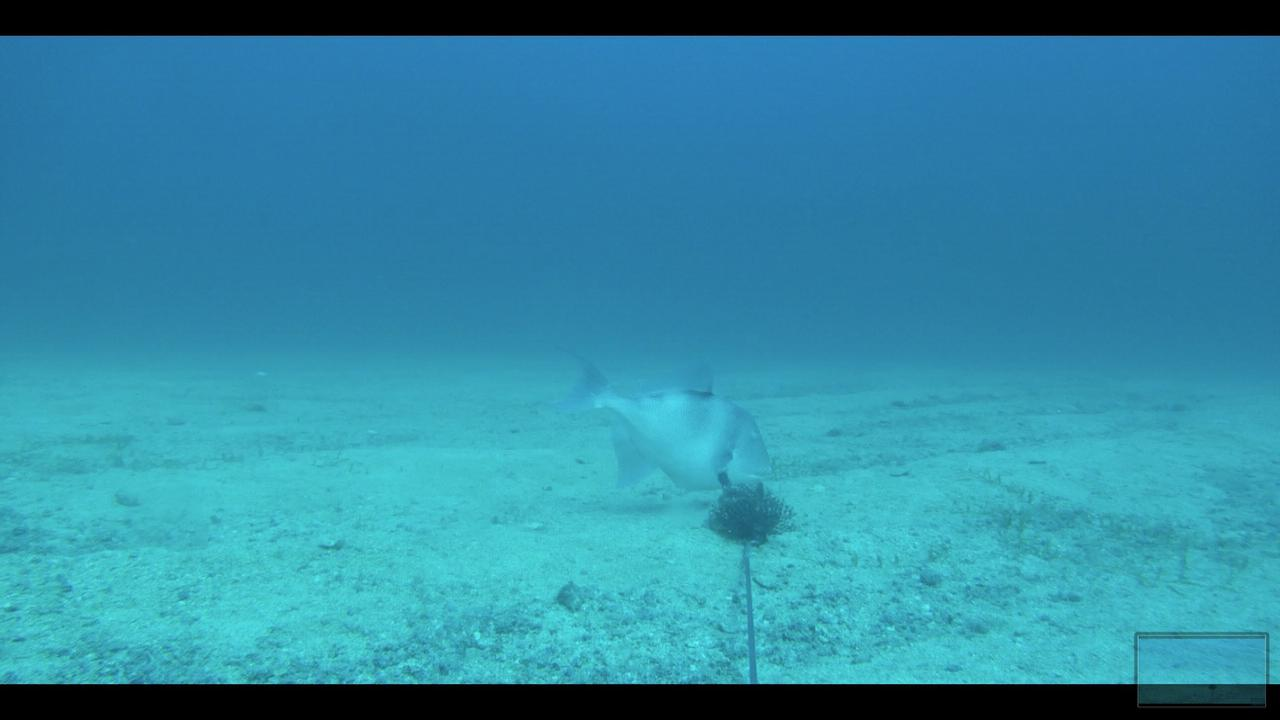balistes: (536, 346, 774, 496)
